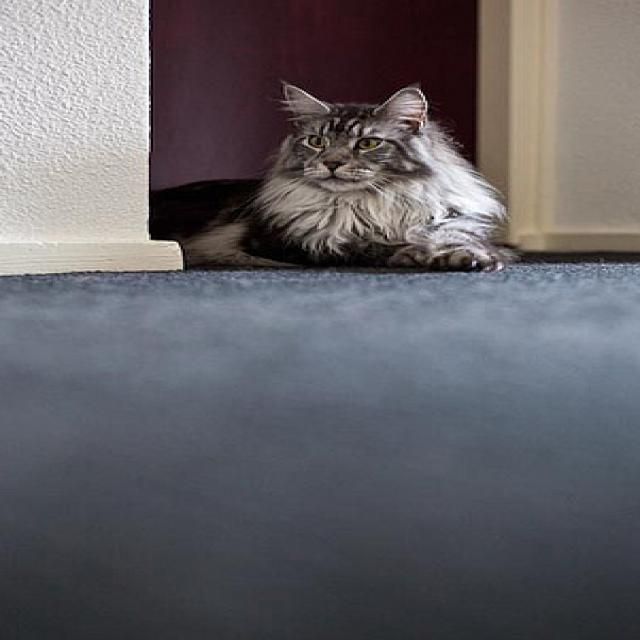Maine Coon: (140, 82, 518, 273)
